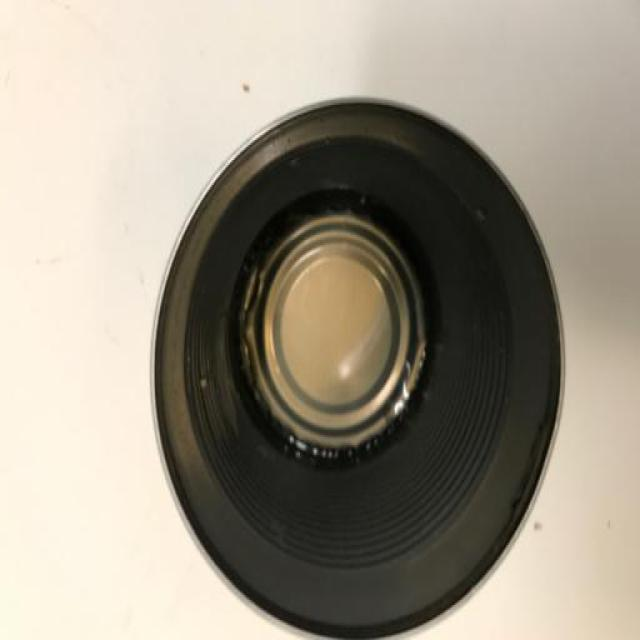Metal: (155, 95, 562, 638)
